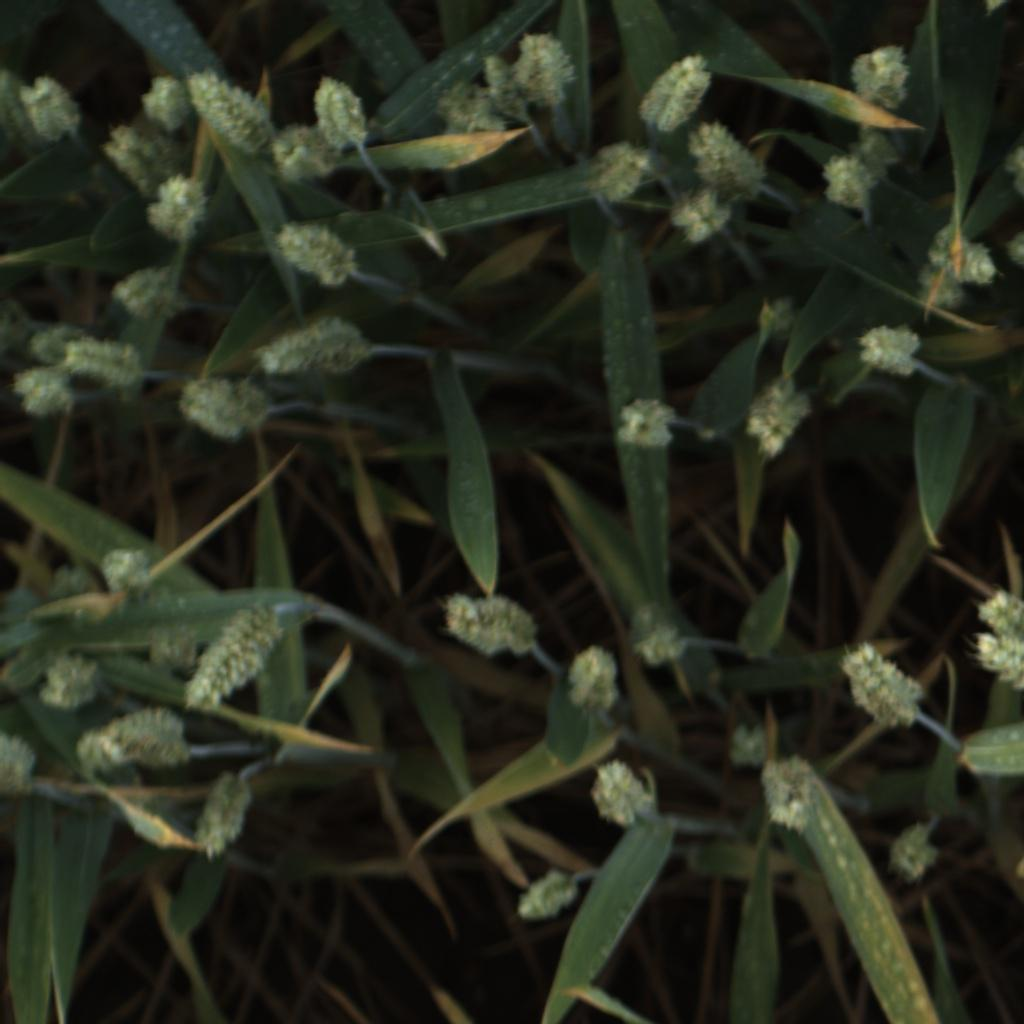0-0: (179, 600, 287, 715), (72, 708, 193, 775), (254, 314, 371, 383), (837, 644, 928, 732), (435, 589, 541, 663), (178, 371, 270, 448), (185, 69, 267, 155), (689, 118, 775, 197), (636, 51, 716, 131), (187, 767, 252, 862), (585, 754, 662, 834), (0, 65, 61, 162), (740, 372, 806, 458), (558, 642, 628, 722), (275, 220, 356, 287), (583, 136, 655, 209), (304, 74, 369, 154), (516, 22, 575, 110), (56, 333, 150, 388), (760, 752, 821, 834), (100, 121, 171, 190), (110, 265, 190, 326), (665, 183, 735, 252), (269, 121, 339, 189), (847, 44, 918, 111), (33, 648, 106, 712), (926, 225, 1001, 287), (142, 175, 210, 241), (16, 76, 86, 140), (434, 85, 511, 143), (851, 320, 925, 379), (627, 599, 687, 668), (513, 865, 575, 930), (12, 359, 80, 418), (882, 820, 941, 886), (814, 150, 877, 211), (137, 73, 196, 137), (845, 119, 903, 184), (479, 52, 530, 122), (23, 320, 99, 365), (617, 396, 677, 450), (971, 635, 1024, 696), (144, 617, 202, 672), (98, 542, 156, 595), (0, 728, 40, 802), (974, 583, 1024, 638), (722, 719, 774, 769), (914, 266, 967, 313), (757, 296, 803, 342), (45, 561, 99, 599), (0, 297, 35, 352), (1002, 143, 1023, 198), (1006, 228, 1024, 268)
